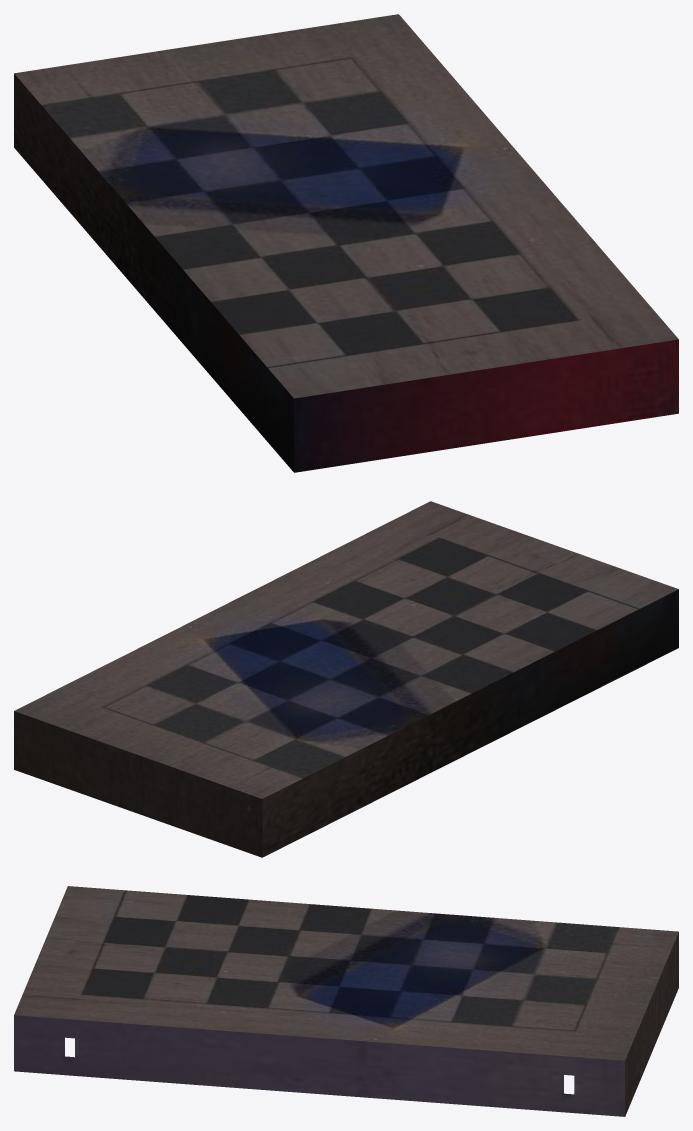
The model's file is checker.glb.
The picture shows the model from 3 angles, top to bottom: view 1: azimuth 30°, elevation 25°; view 2: azimuth 150°, elevation 25°; view 3: azimuth 270°, elevation 25°; orthographic projection. The views are drawn at different scales.
Parts seen in each view (by area): view 1: checker; view 2: checker; view 3: checker.
Part boxes in pixels (bbox=[...]): checker: bbox=[14, 14, 678, 472]; checker: bbox=[14, 501, 678, 857]; checker: bbox=[14, 886, 678, 1116].
Bounding box in the file's own units: 2.24 × 0.336 × 3.6.
Materials: 1 (1 with a texture image).
